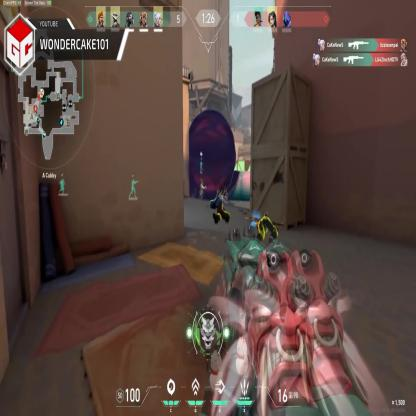enemy: (200, 180, 205, 200)
enemy_head: (201, 180, 204, 186)
